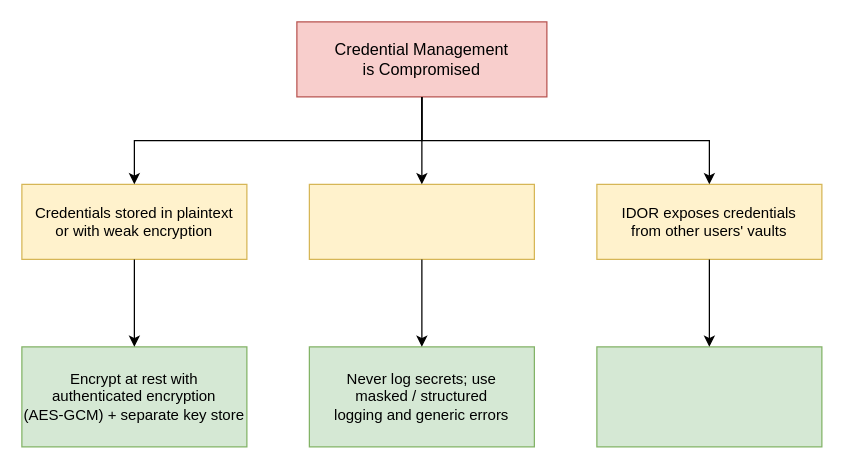
This 844x469 diagram has some shape labels left out. Each missing label, with the centre of its shape:
"Enforce vault-ownership checks on every read / reveal operation" belongs at pixel 709 396.
"Plaintext secrets leak via logs or error messages" belongs at pixel 421 221.
